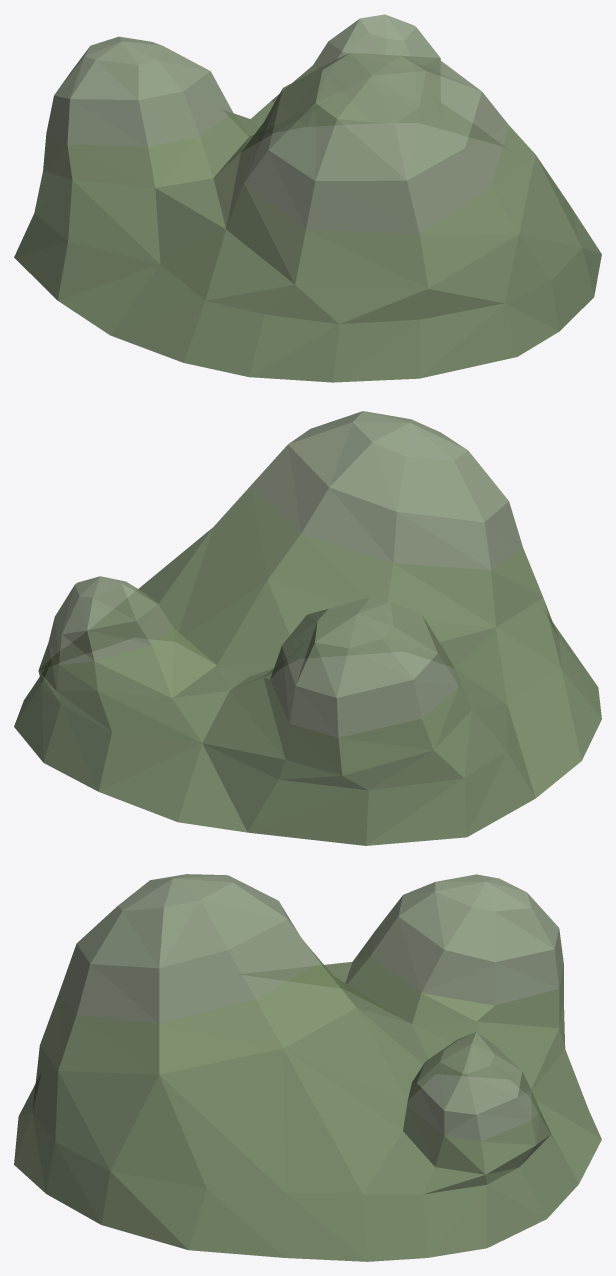
File: cave_slime.gltf
The picture shows the model from 3 angles, top to bottom: view 1: azimuth 30°, elevation 25°; view 2: azimuth 150°, elevation 25°; view 3: azimuth 270°, elevation 25°; orthographic projection. The views are drawn at different scales.
Size of the model in its own units: 125 by 60.38 by 128.
Materials: 2 (2 with a texture image).
